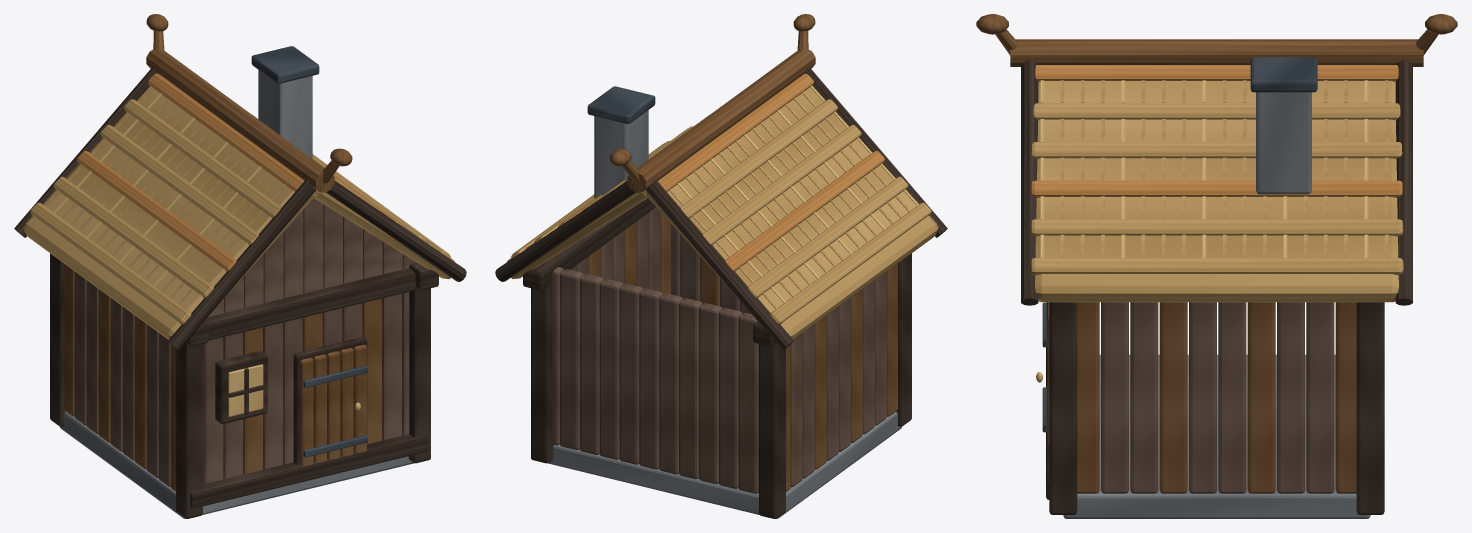
File: timber_house.glb
3 views of the same model, side by side, from view 1: azimuth 30°, elevation 25°; view 2: azimuth 150°, elevation 25°; view 3: azimuth 270°, elevation 25° (orthographic). The views are drawn at different scales.
Visible parts, largest first — view 1: TimberHouse; view 2: TimberHouse; view 3: TimberHouse.
Boxes of the visible parts, x1,y1,x2,y2 form: TimberHouse: (14,14,466,518); TimberHouse: (495,14,947,518); TimberHouse: (976,14,1457,518).
Size of the model in its own units: 2.99 by 3.47 by 3.44.
1 material, 1 textured.
